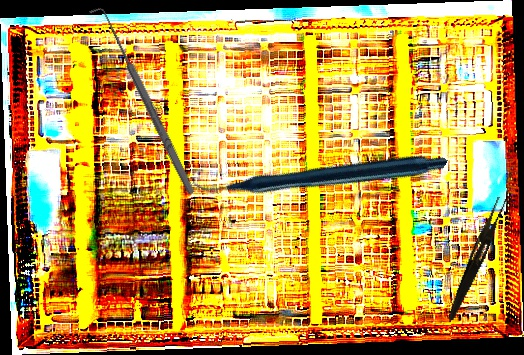Dressing Forceps: (445, 194, 508, 324)
Handpiece: (192, 55, 448, 289)
Hook Surgical: (87, 1, 199, 201)
